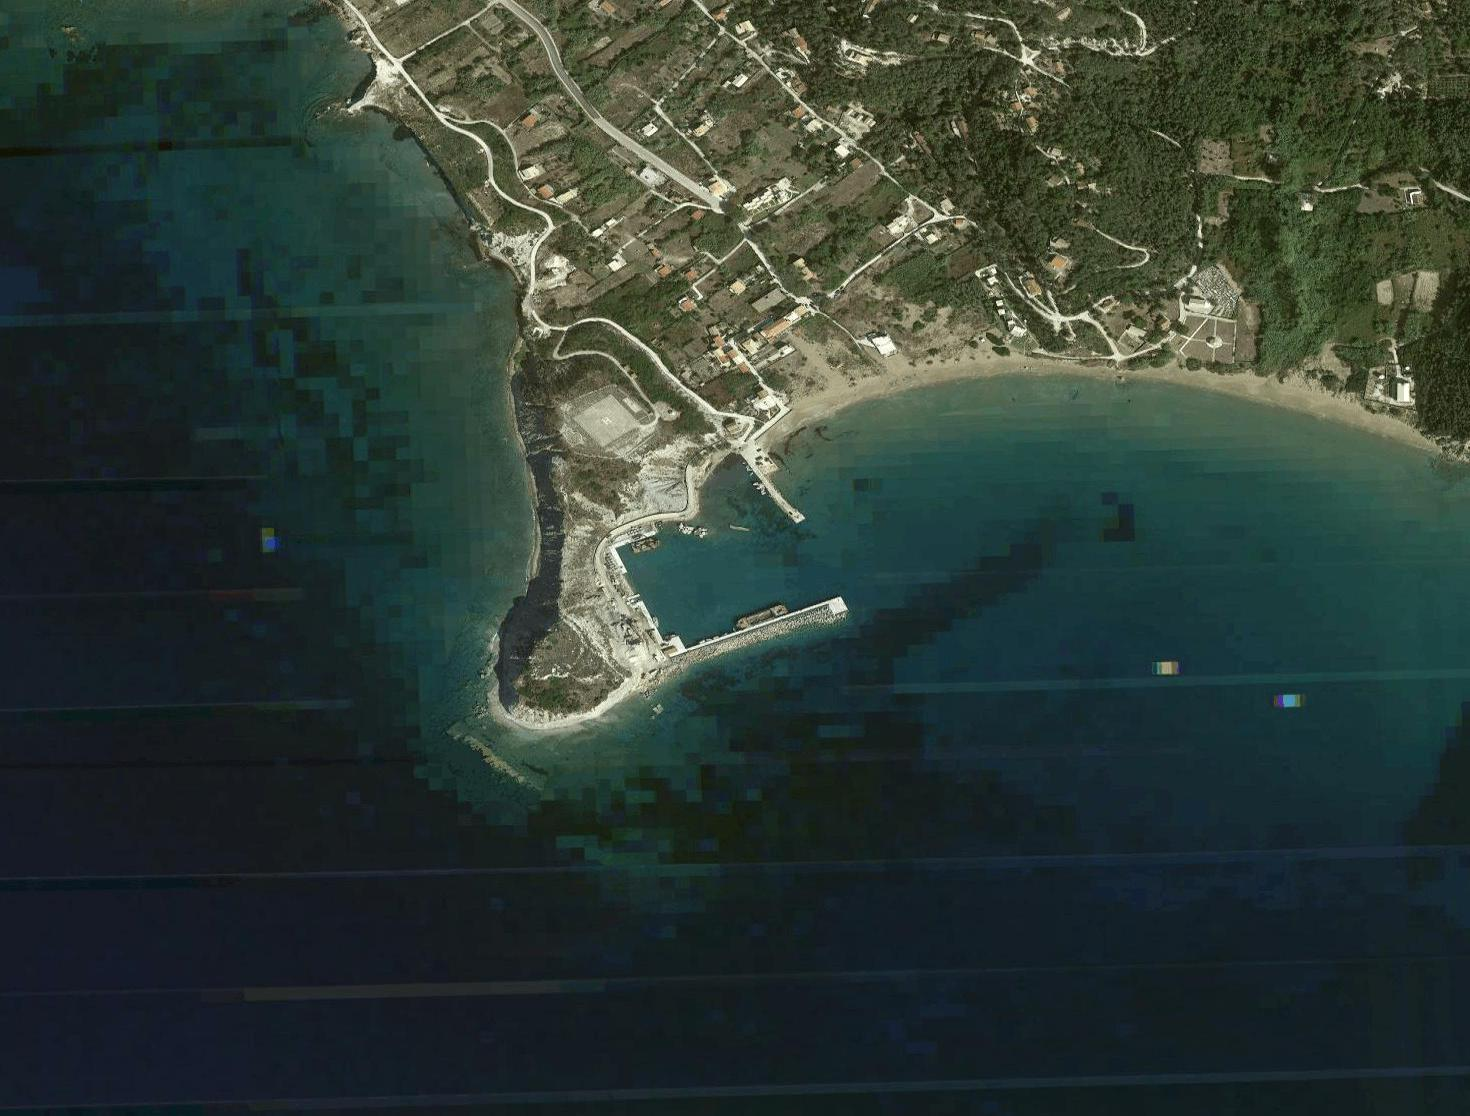harbor: (590, 460, 855, 687)
